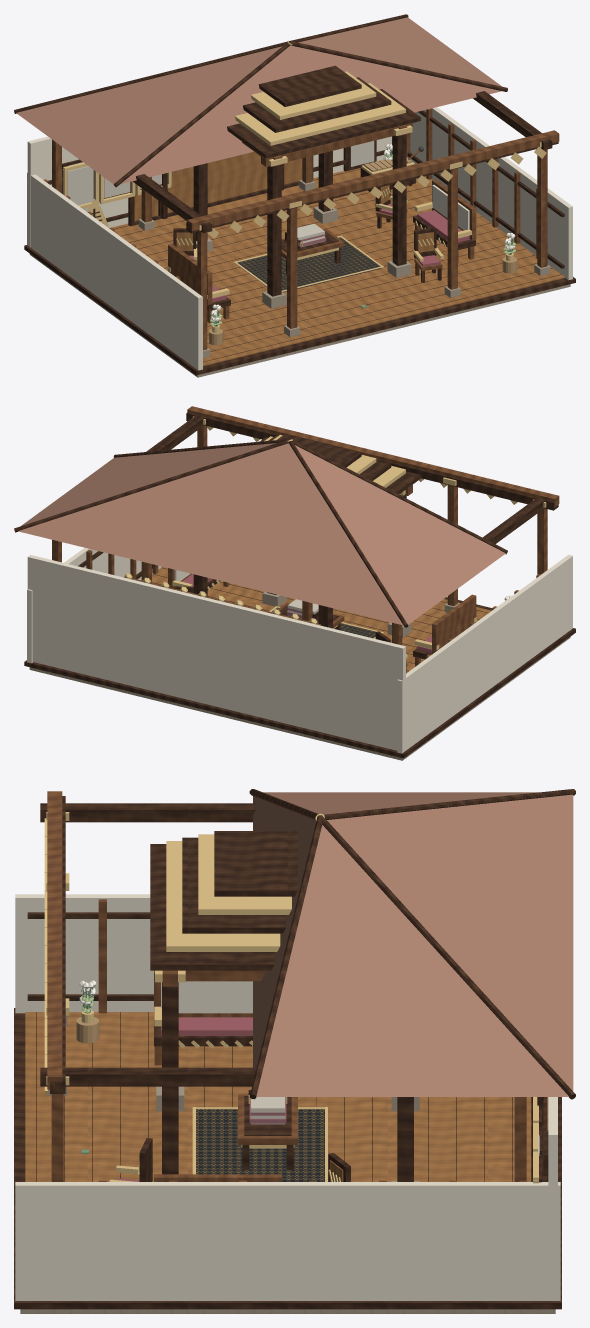
The model's file is joglo_living_room_mobile_optimized.glb.
3 views of the same model, one above another, from view 1: azimuth 30°, elevation 25°; view 2: azimuth 150°, elevation 25°; view 3: azimuth 270°, elevation 25° (orthographic). The views are drawn at different scales.
Parts seen in each view (by area): view 1: STATIC_BATCH_PBR_LightTeak, STATIC_BATCH_PBR_DarkTeak, STATIC_BATCH_PBR_TerracottaRoof, STATIC_BATCH_PBR_IvoryFabric, STATIC_BATCH_PBR_TeakWood, STATIC_BATCH_PBR_BrassGold, STATIC_BATCH_PBR_BatikKawung, STATIC_BATCH_PBR_StoneTiles, SHELL__FLOOR_WALKABLE, STATIC_BATCH_PBR_BurgundyCushion, GALLERY_01__HS_GALLERY_01, STATIC_BATCH_PBR_Bronze (+1 smaller); view 2: STATIC_BATCH_PBR_IvoryFabric, STATIC_BATCH_PBR_TerracottaRoof, STATIC_BATCH_PBR_DarkTeak, STATIC_BATCH_PBR_TeakWood, STATIC_BATCH_PBR_LightTeak, STATIC_BATCH_PBR_BrassGold, SHELL__FLOOR_WALKABLE, STATIC_BATCH_PBR_StoneTiles; view 3: STATIC_BATCH_PBR_TerracottaRoof, STATIC_BATCH_PBR_IvoryFabric, STATIC_BATCH_PBR_DarkTeak, STATIC_BATCH_PBR_LightTeak, STATIC_BATCH_PBR_TeakWood, STATIC_BATCH_PBR_BrassGold, STATIC_BATCH_PBR_BatikKawung, SHELL__FLOOR_WALKABLE, STATIC_BATCH_PBR_BurgundyCushion, STORY_BOOK__HS_STORY_BOOK.
Part boxes in pixels (box(x1,y1,x2,y2)): STATIC_BATCH_PBR_LightTeak: box(109, 151, 565, 366); STATIC_BATCH_PBR_DarkTeak: box(14, 14, 575, 375); STATIC_BATCH_PBR_TerracottaRoof: box(16, 17, 501, 184); STATIC_BATCH_PBR_IvoryFabric: box(27, 107, 572, 370); STATIC_BATCH_PBR_TeakWood: box(43, 108, 559, 350); STATIC_BATCH_PBR_BrassGold: box(62, 40, 551, 332); STATIC_BATCH_PBR_BatikKawung: box(237, 237, 381, 292); STATIC_BATCH_PBR_StoneTiles: box(138, 179, 550, 358); SHELL__FLOOR_WALKABLE: box(29, 254, 570, 377); STATIC_BATCH_PBR_BurgundyCushion: box(189, 203, 470, 302); GALLERY_01__HS_GALLERY_01: box(67, 166, 93, 204); STATIC_BATCH_PBR_Bronze: box(209, 157, 516, 345); STATIC_BATCH_PBR_IvoryFabric: box(27, 547, 572, 753); STATIC_BATCH_PBR_TerracottaRoof: box(18, 443, 505, 625); STATIC_BATCH_PBR_DarkTeak: box(14, 412, 575, 758); STATIC_BATCH_PBR_TeakWood: box(52, 406, 559, 673); STATIC_BATCH_PBR_LightTeak: box(152, 566, 491, 670); STATIC_BATCH_PBR_BrassGold: box(124, 416, 546, 657); SHELL__FLOOR_WALKABLE: box(29, 637, 570, 760); STATIC_BATCH_PBR_StoneTiles: box(262, 591, 459, 637); STATIC_BATCH_PBR_TerracottaRoof: box(253, 792, 573, 1096); STATIC_BATCH_PBR_IvoryFabric: box(15, 894, 560, 1300); STATIC_BATCH_PBR_DarkTeak: box(14, 789, 575, 1309); STATIC_BATCH_PBR_LightTeak: box(25, 1012, 548, 1181); STATIC_BATCH_PBR_TeakWood: box(47, 791, 527, 1181); STATIC_BATCH_PBR_BrassGold: box(44, 812, 538, 1183); STATIC_BATCH_PBR_BatikKawung: box(196, 1109, 324, 1181); SHELL__FLOOR_WALKABLE: box(20, 1309, 555, 1313); STATIC_BATCH_PBR_BurgundyCushion: box(118, 1017, 252, 1181); STORY_BOOK__HS_STORY_BOOK: box(251, 1087, 284, 1124).
Size of the model in its own units: 14.48 by 7.81 by 11.23.
17 materials, 5 textured.
